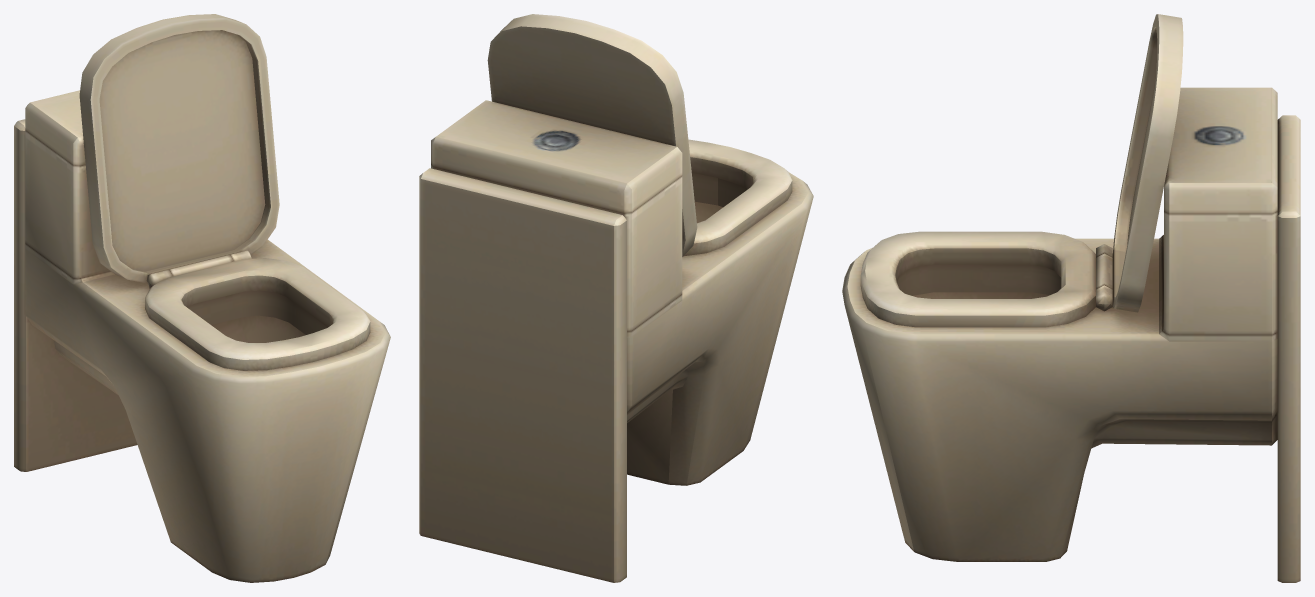
The model's file is 紧凑马桶.glb.
3 renders of one model, left to right at view 1: azimuth 30°, elevation 25°; view 2: azimuth 150°, elevation 25°; view 3: azimuth 270°, elevation 25°, orthographic. The views are drawn at different scales.
Visible parts, largest first — view 1: TinyLiving_CompactLavatory_45; view 2: TinyLiving_CompactLavatory_45; view 3: TinyLiving_CompactLavatory_45.
Part boxes in pixels (x1,y1,x2,y2): TinyLiving_CompactLavatory_45: [14, 14, 390, 582]; TinyLiving_CompactLavatory_45: [419, 14, 813, 582]; TinyLiving_CompactLavatory_45: [842, 14, 1300, 582].
Size of the model in its own units: 0.385 by 0.8925 by 0.744.
Materials: 1 (1 with a texture image).
